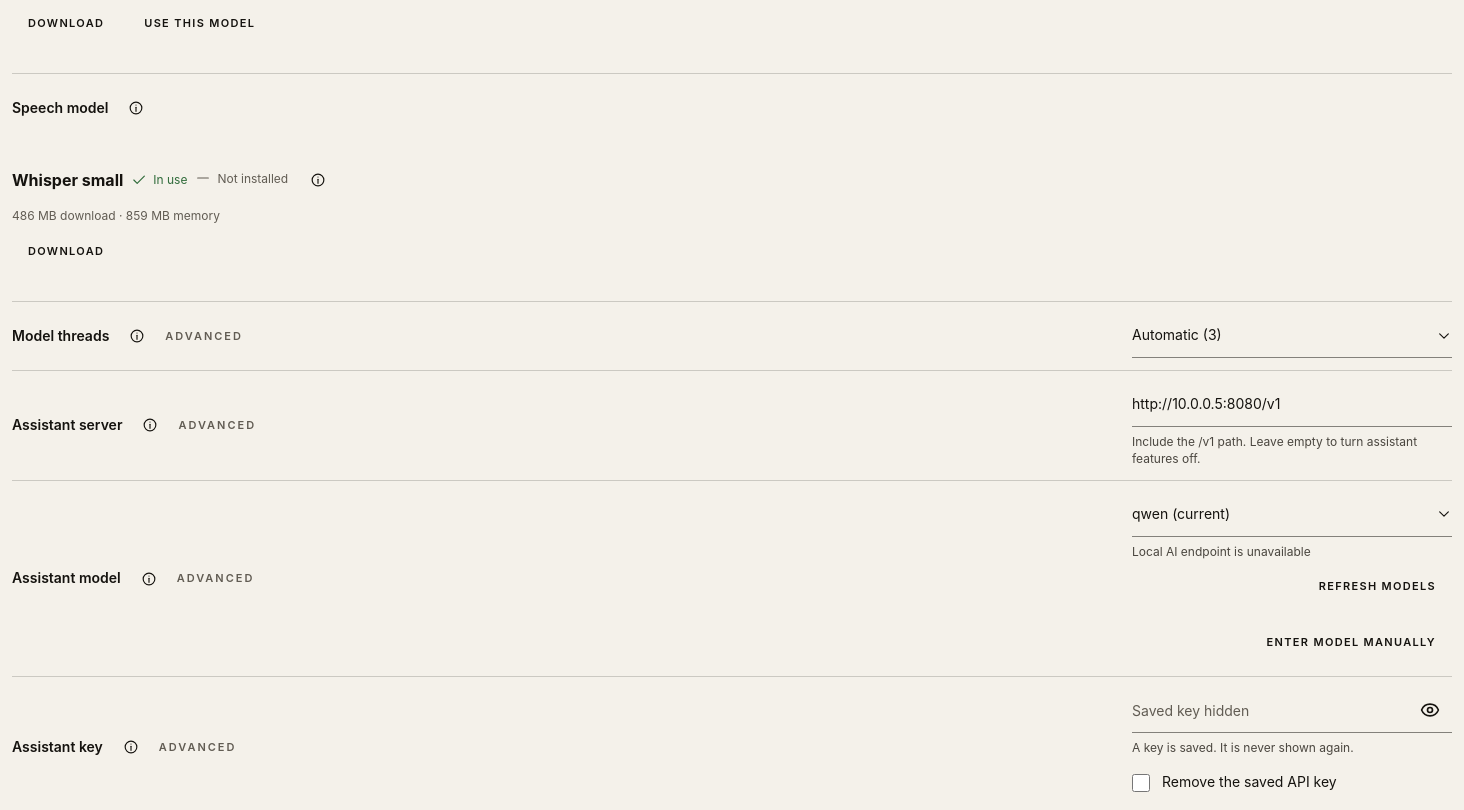
it: automatic assistant model discovery › requeries a draft address without saving and keeps manual entry when the endpoint fails
The image size is (1464, 810).
(page scrolled)
Expected: the text "Local AI endpoint is unavailable" is shown, [1132,544,1311,559]
Replace the text in the field named "Server address" with "http://other-server.test/v1": (1292, 405) [1132,383,1452,427]
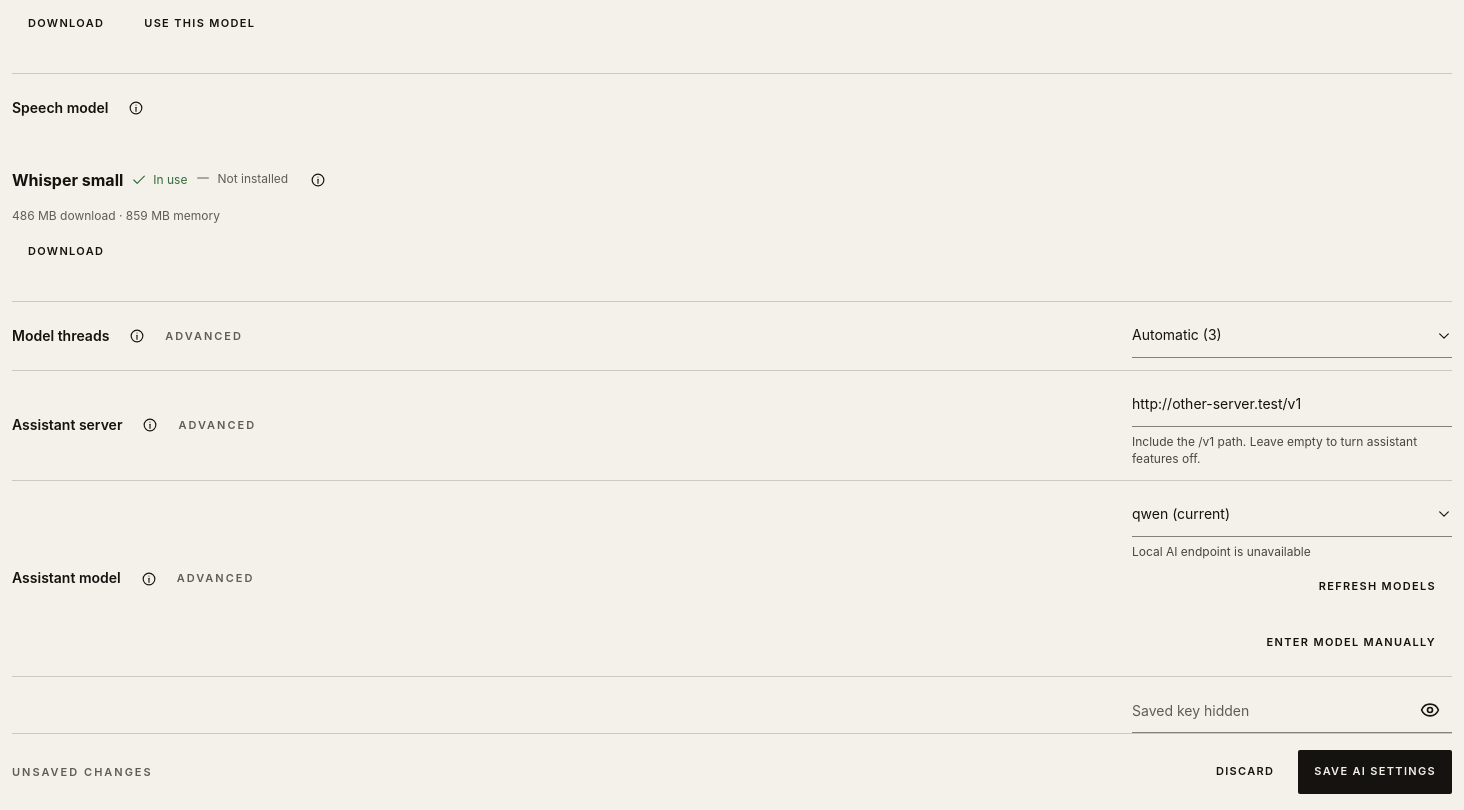
Click the button "Enter model manually": (1351, 642) [1251,620,1452,664]
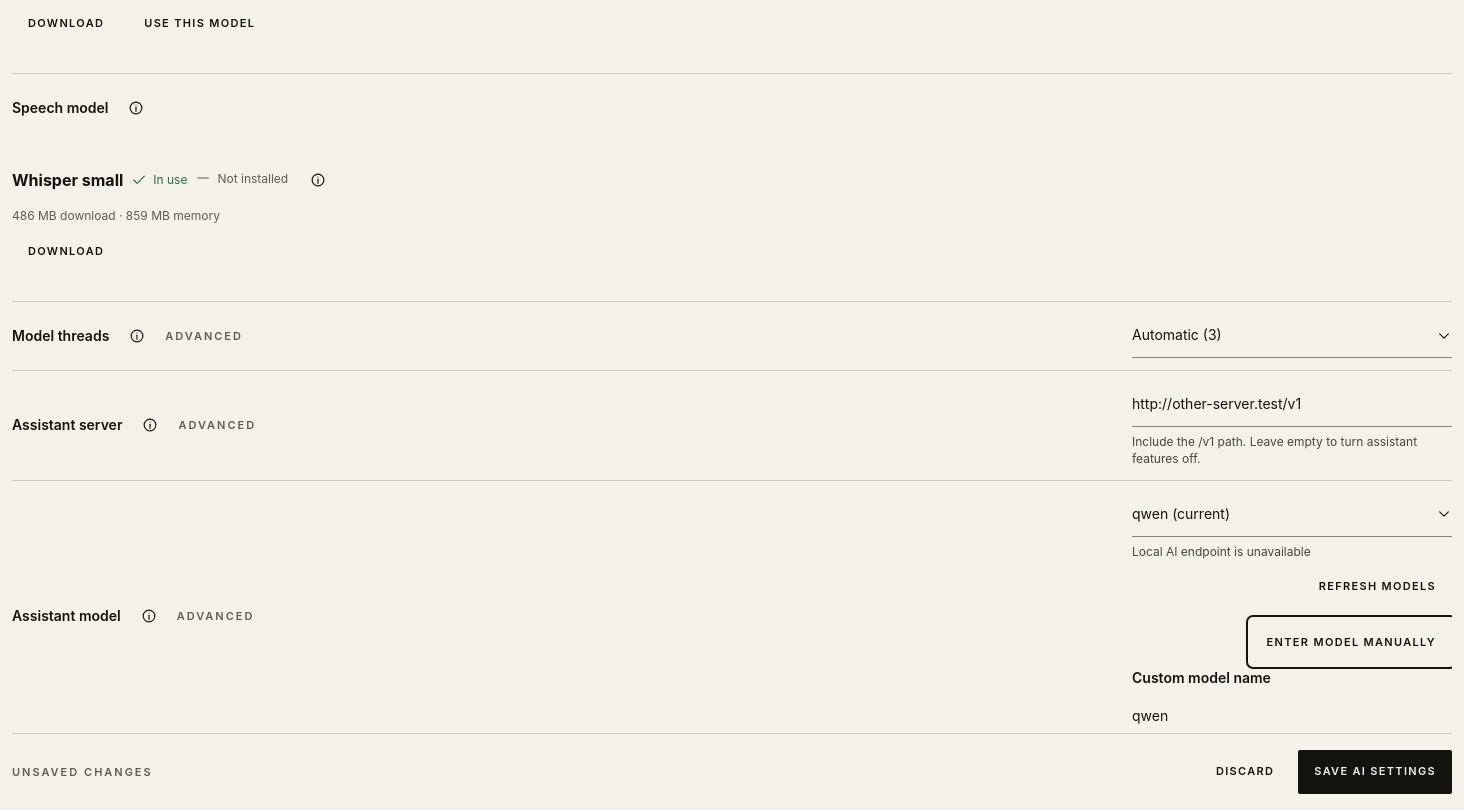
Now the field labelled "Custom model name" holds "qwen", box [1132,694,1452,738]
